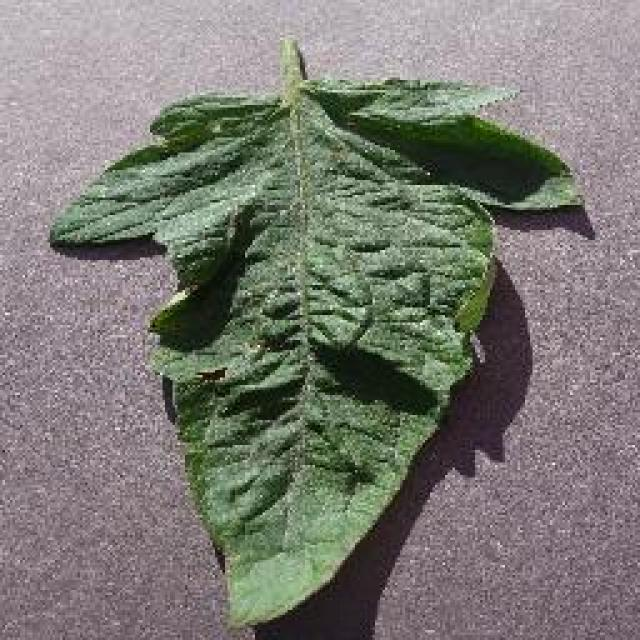Tomato___Target_Spot: (50, 40, 580, 622)
